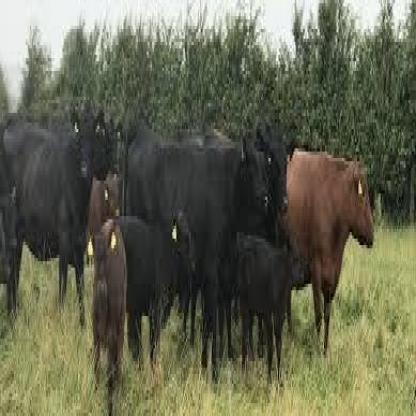cow: (126, 132, 266, 378), (0, 103, 105, 336), (279, 147, 375, 353), (121, 206, 196, 371), (238, 240, 304, 386), (86, 219, 128, 416), (255, 129, 296, 245), (85, 164, 121, 258), (0, 176, 21, 321), (95, 111, 122, 179)
